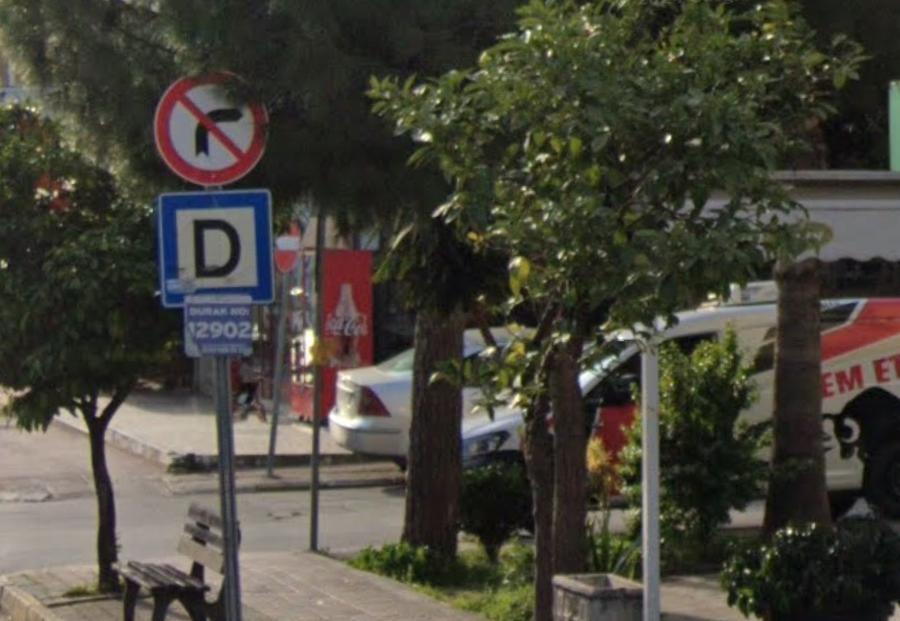rightturnsareforbidden: (157, 72, 265, 187)
station: (167, 199, 264, 293)
